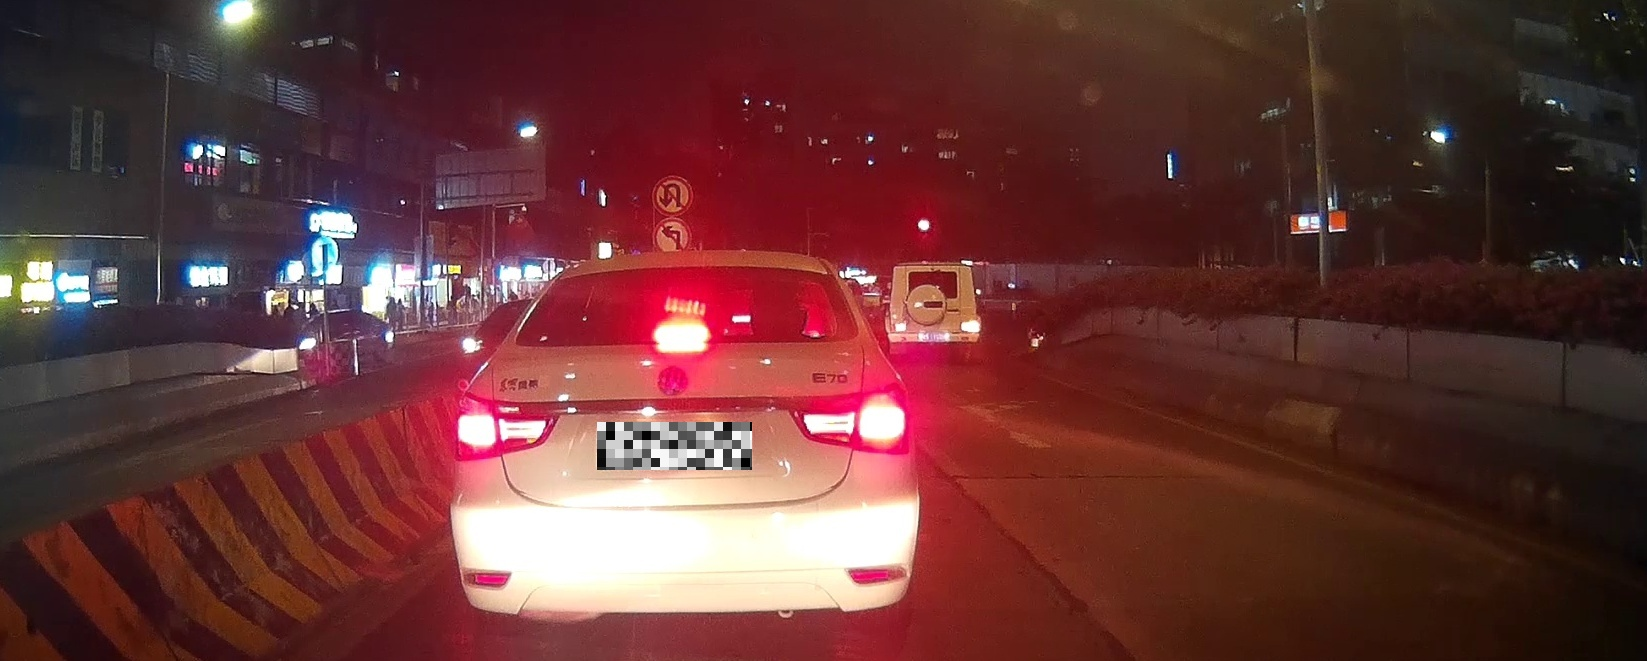L_light: (455, 391, 559, 460)
R_light: (788, 383, 911, 454)
T_light: (654, 324, 710, 343)
night-no: (450, 249, 919, 636)
plate_1: (597, 422, 752, 470)
